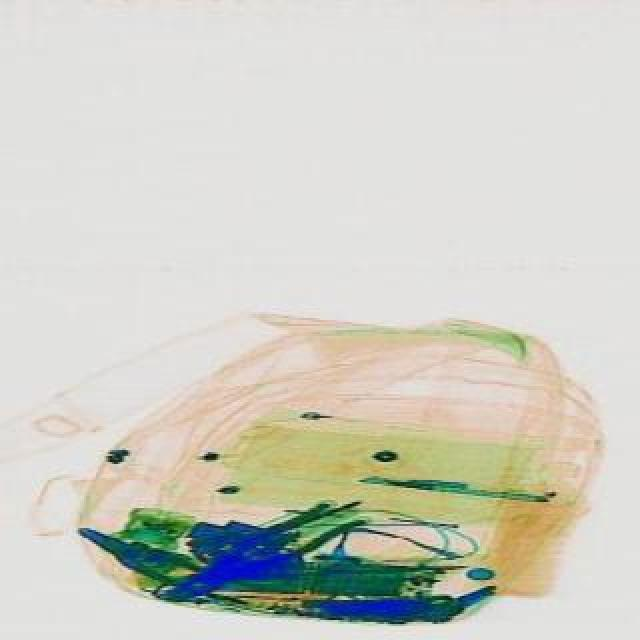wrench: (158, 488, 362, 616), (72, 516, 202, 596)
